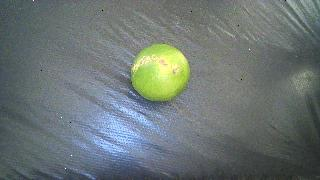DESECHO: (131, 44, 190, 102)
